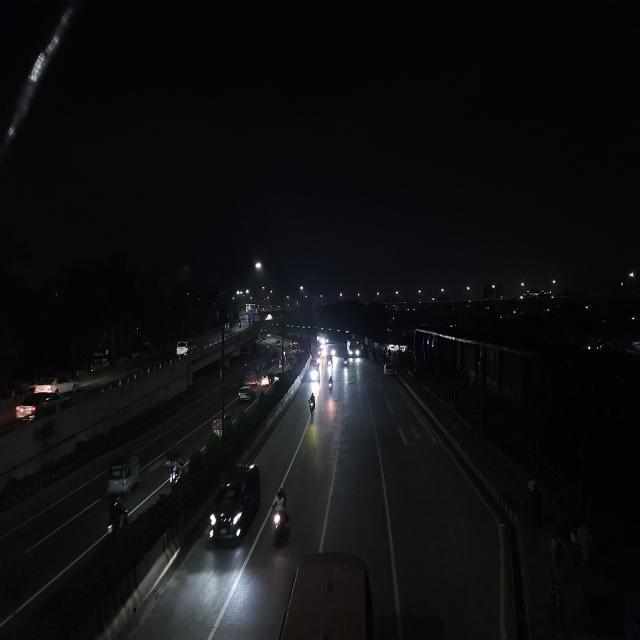bus: (242, 350, 272, 390), (348, 337, 360, 359)
car: (204, 459, 264, 557), (14, 390, 74, 422), (42, 371, 80, 396), (175, 337, 193, 358), (237, 384, 255, 404), (382, 360, 397, 378), (309, 360, 321, 382), (271, 371, 281, 384)
cng: (105, 450, 143, 496), (262, 375, 270, 387)
motorcycle: (268, 485, 294, 548), (103, 496, 129, 538), (307, 391, 317, 416), (326, 376, 334, 396)
